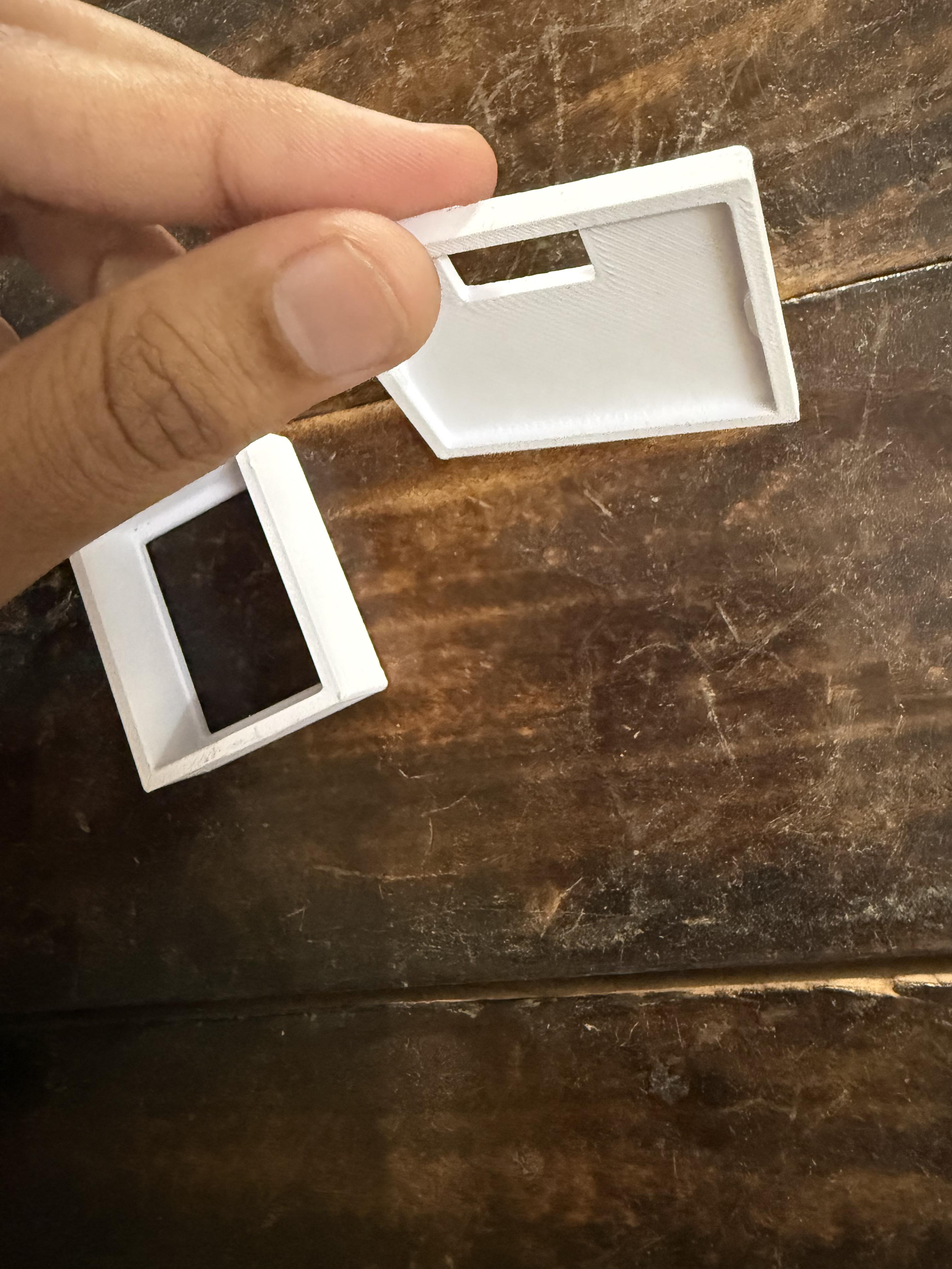enclosure: (376, 144, 801, 460), (69, 432, 388, 792)
